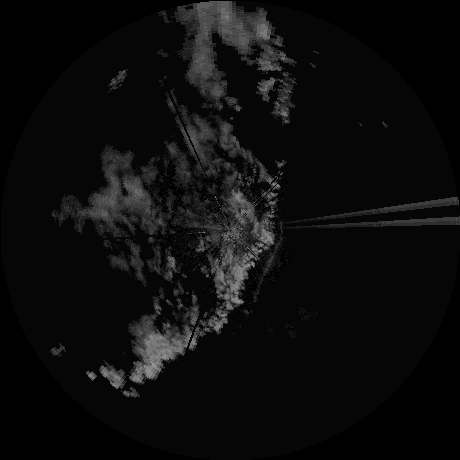frontgust: (256, 251, 277, 300), (274, 222, 288, 247)
